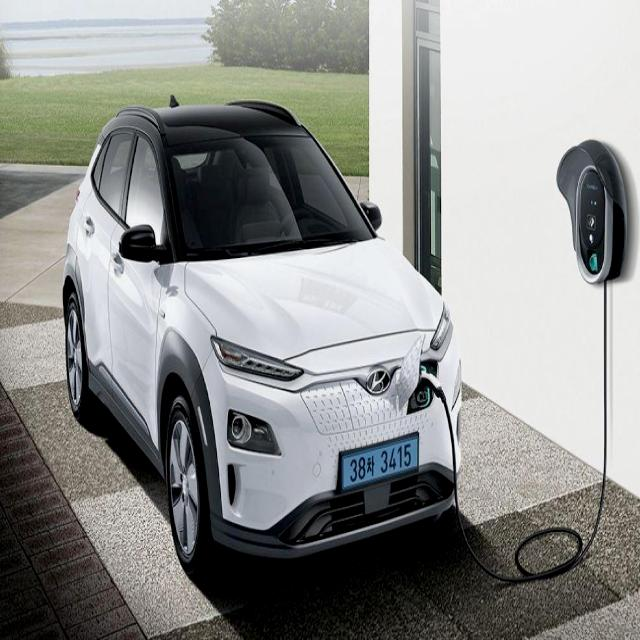EV_plate: (346, 429, 424, 497)
car: (63, 93, 463, 579)
